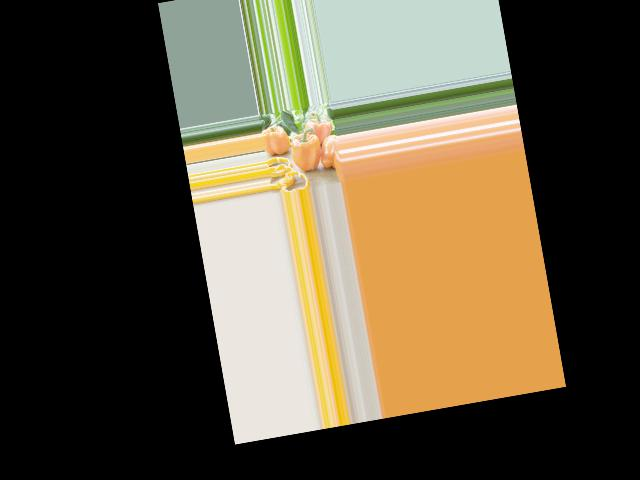bell_pepper: (317, 133, 342, 170)
